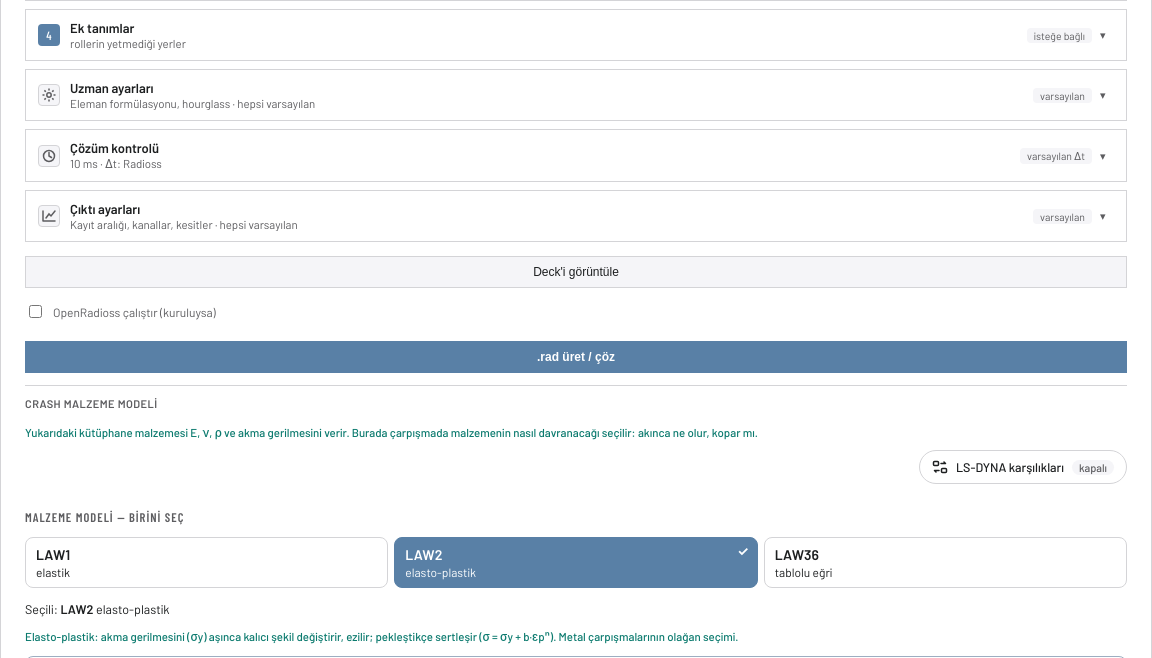
Test: CrashPanel › çözüm skalerlerini ayrı panelde gösterir
(page scrolled)
Click the checkbox labelled "OpenRadioss çalıştır (kuruluysa)". click: click(36, 312)
box: 29,305 -> 42,318
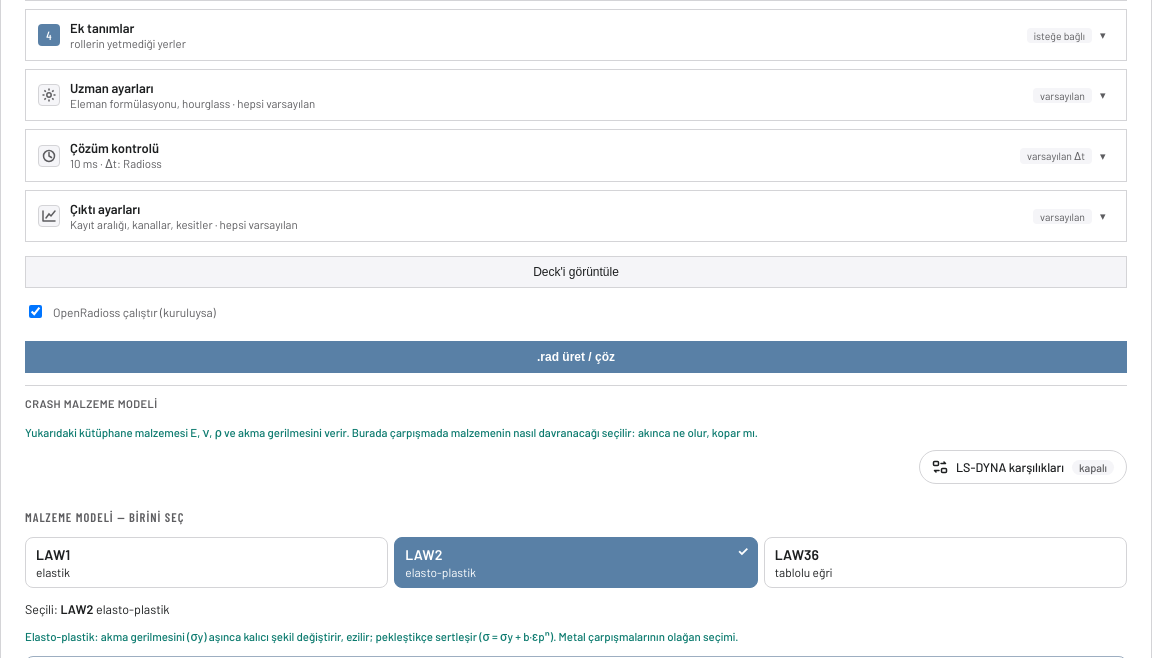
Click the button ".rad üret / çöz". click: click(576, 357)
box: 25,341 -> 1127,373
(page scrolled)
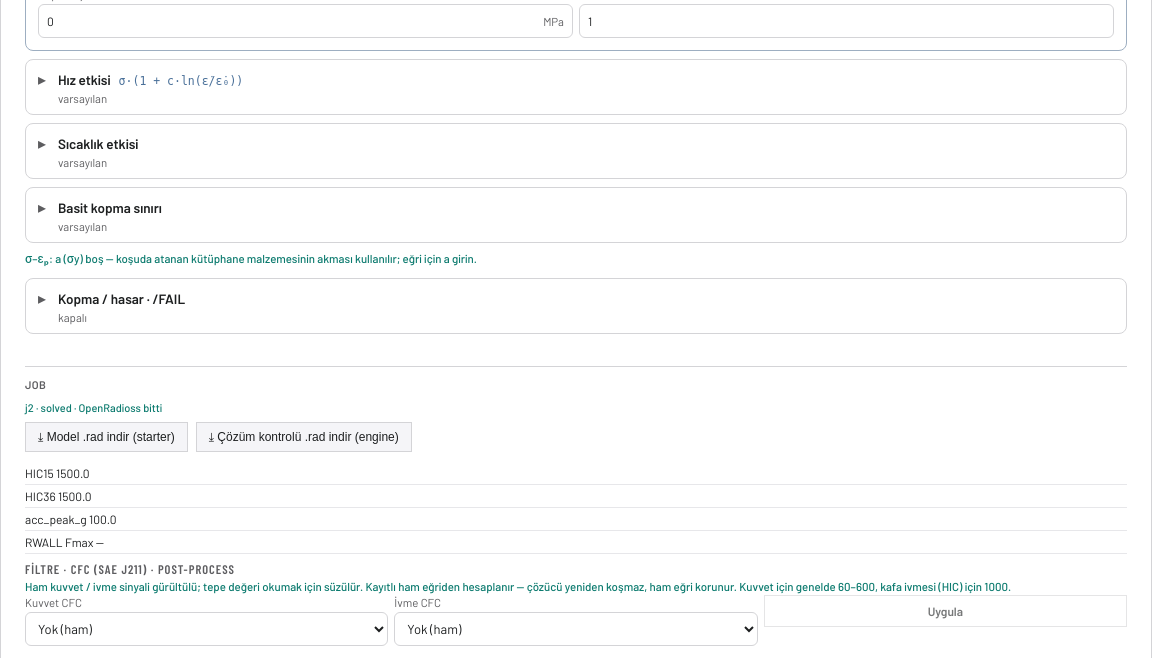
Now the list item "HIC15 1500.0" is shown, box 25,462 -> 1127,485
Now the list item "HIC36 1500.0" is shown, box 25,485 -> 1127,508
